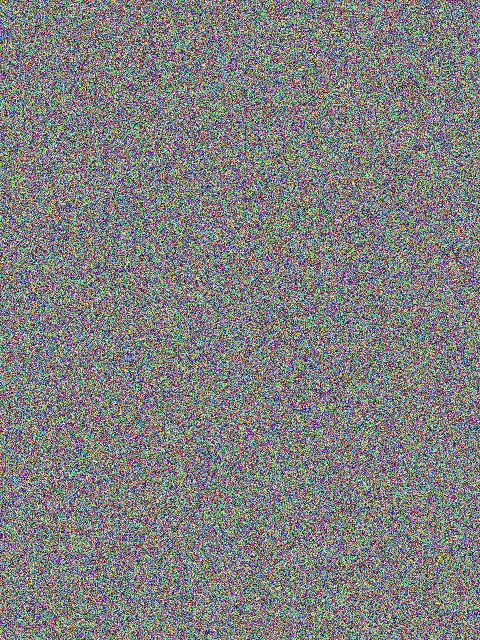bottle: (61, 144, 184, 283)
car: (102, 269, 203, 412)
dog: (282, 537, 396, 610)
